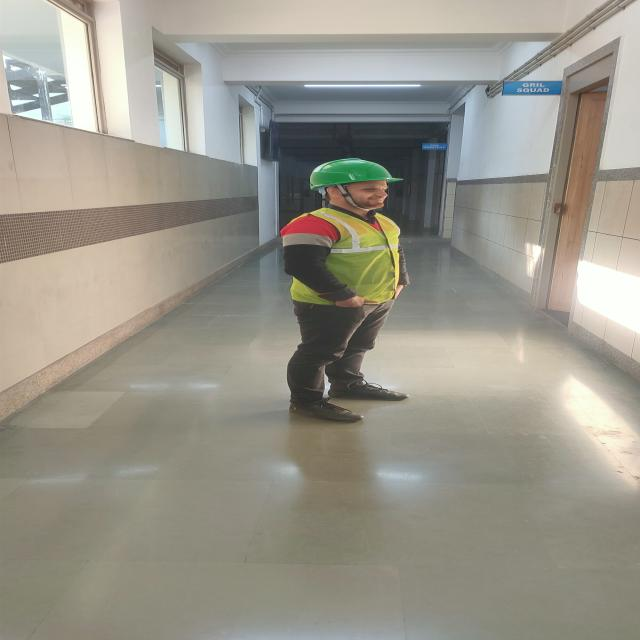safe: (281, 157, 416, 422)
